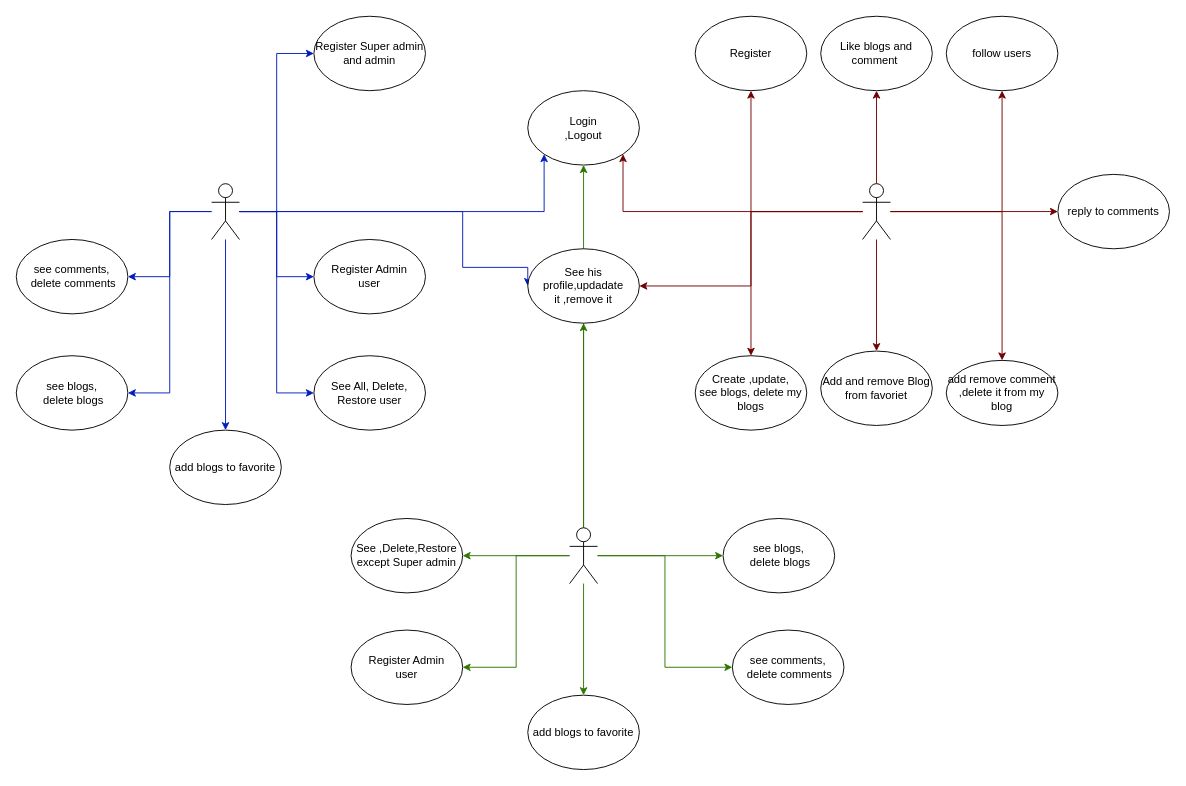
This 1186x786 diagram has some shape labels left out. Here are the shapes that lost their labels. From the top down, the centre of each, then its label:
At pixel 225 211: "Supper Admin".
At pixel 876 211: "Default user".
At pixel 583 555: "Admin".
